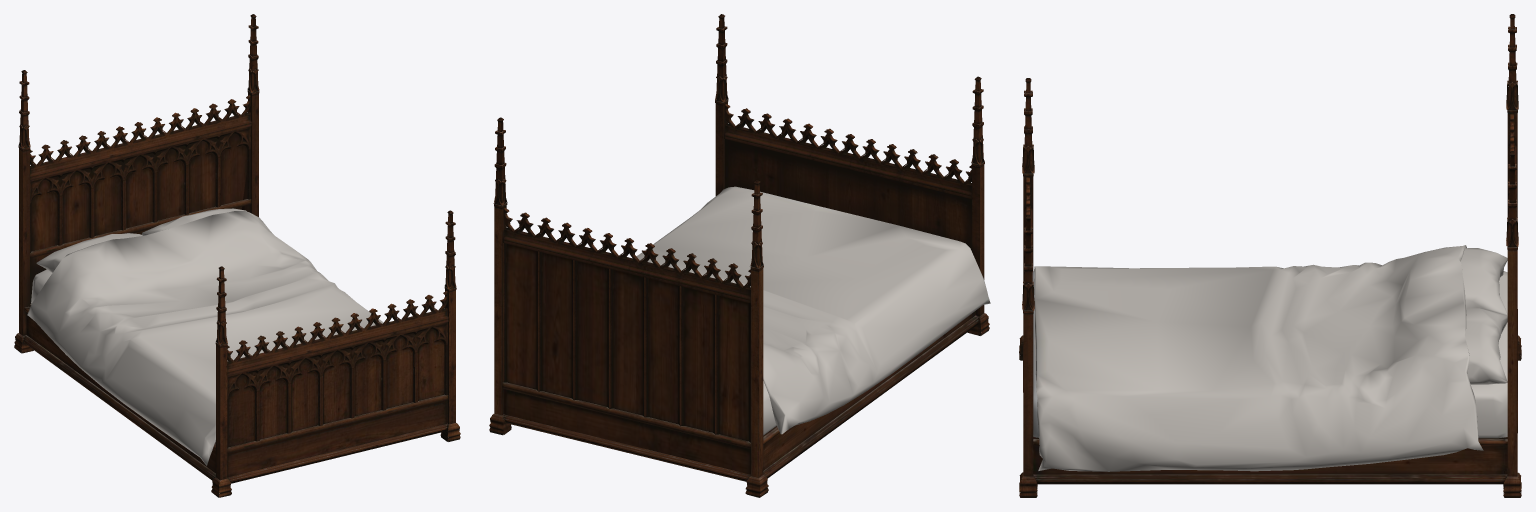
Rendered from ph_gothicbed_01.glb.
3 renders of one model, left to right at view 1: azimuth 30°, elevation 25°; view 2: azimuth 150°, elevation 25°; view 3: azimuth 270°, elevation 25°, orthographic. The views are drawn at different scales.
Parts seen in each view (by area): view 1: GothicBed_01; view 2: GothicBed_01; view 3: GothicBed_01.
Boxes of the visible parts, x1,y1,x2,y2 form: GothicBed_01: (14, 14, 460, 497); GothicBed_01: (489, 14, 990, 497); GothicBed_01: (1019, 14, 1521, 497).
Size of what is drawn, in the model's own units: 1.49 by 1.53 by 2.04.
1 material, 1 textured.
